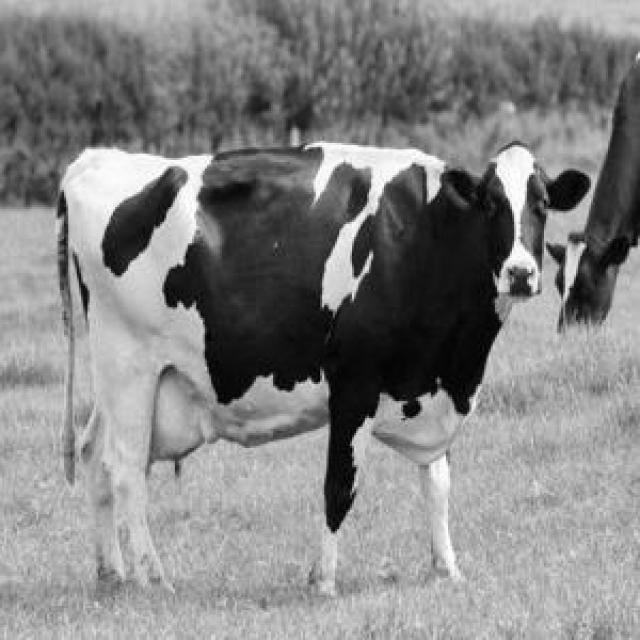cow: (58, 142, 589, 591), (548, 55, 640, 326)
